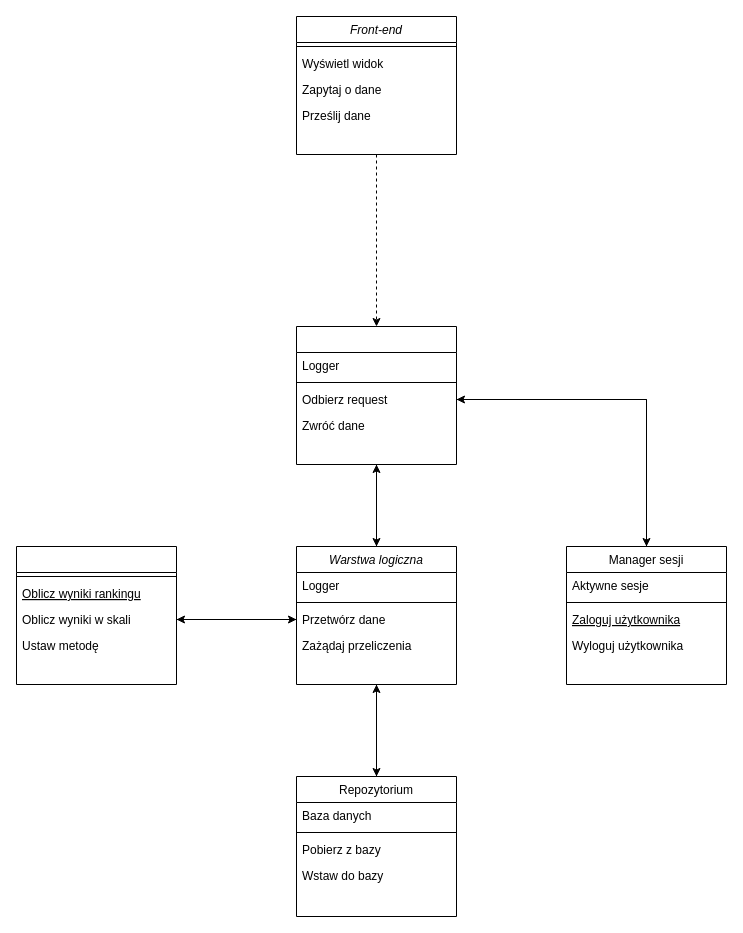
Some shapes in this 743 by 933 pixel diagram are drawn without their labels. The shapes that lost their labels are listed below. From the top down, each one's box as (x1, y1, x2, y2) in pixels, then its label:
(296, 326, 456, 464): Kontroler
(16, 546, 176, 684): Obliczenia
